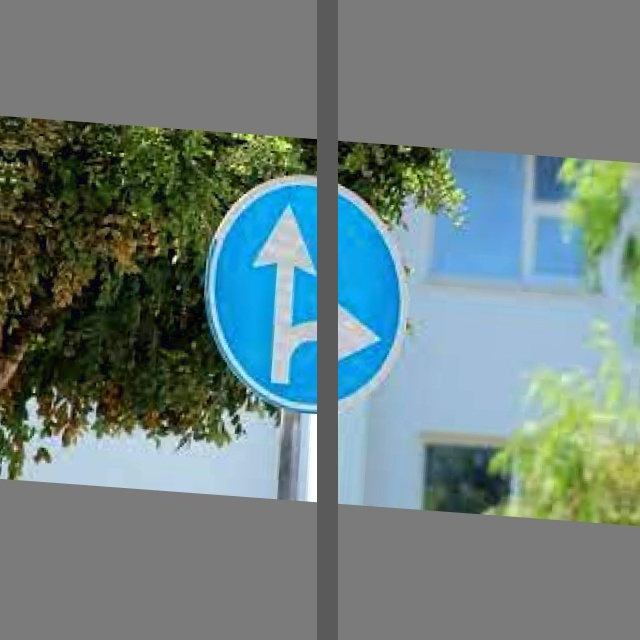Compulsory_Ahead_or_Turn_Right: (198, 168, 416, 425)
